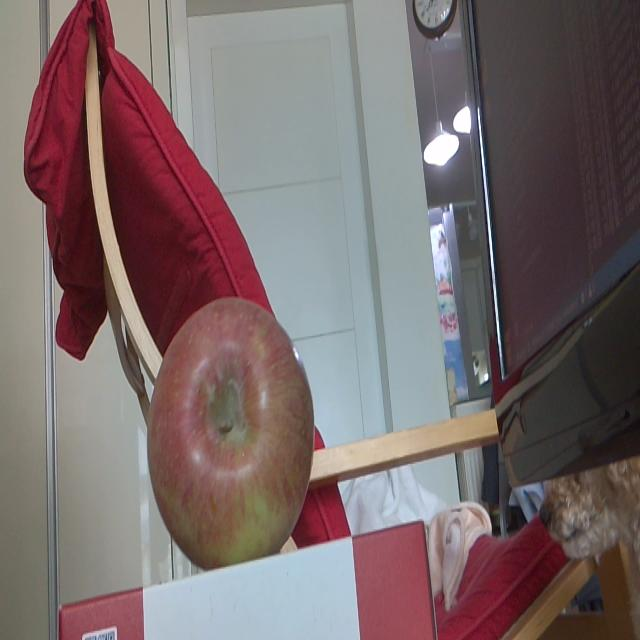apple: (148, 298, 314, 572)
